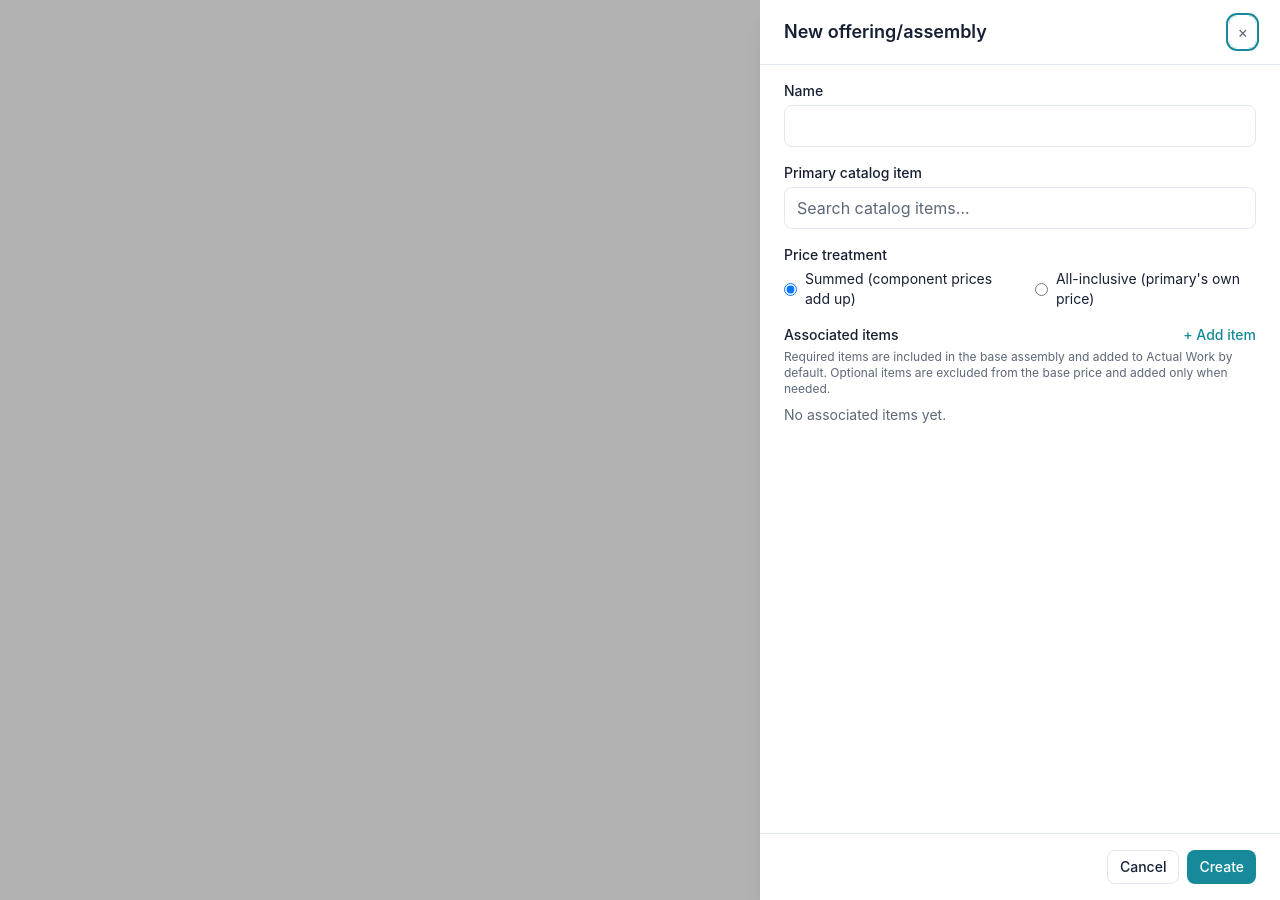
Test: OfferingAssemblyDrawer › excludes the primary item from an associated-item picker's results
Click the dropdown at (1020,208), box [784, 187, 1256, 229]
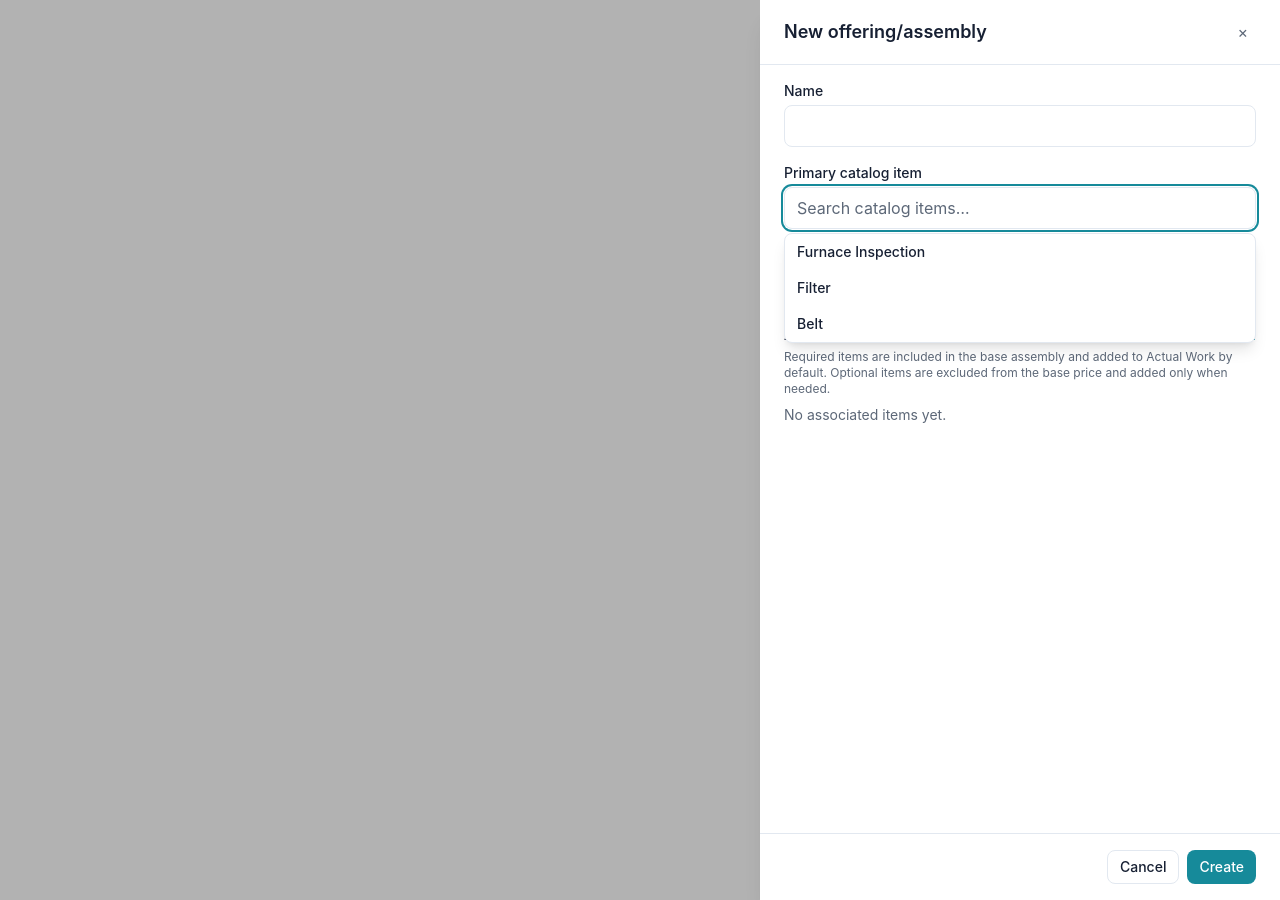
Click the option "Furnace Inspection" at (861,252), box [797, 243, 925, 260]
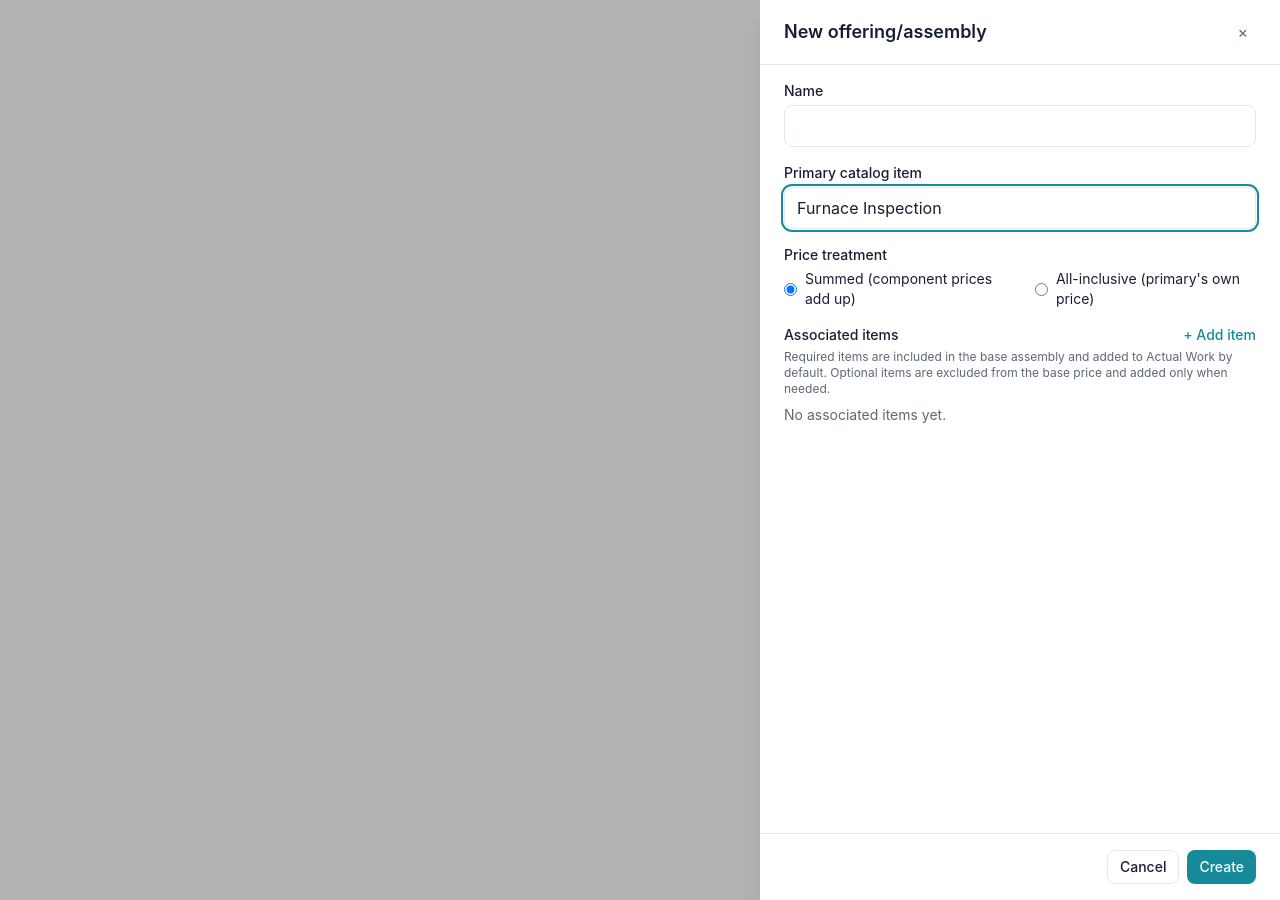
Click the button "+ Add item" at (1220,335), box [1183, 325, 1256, 345]
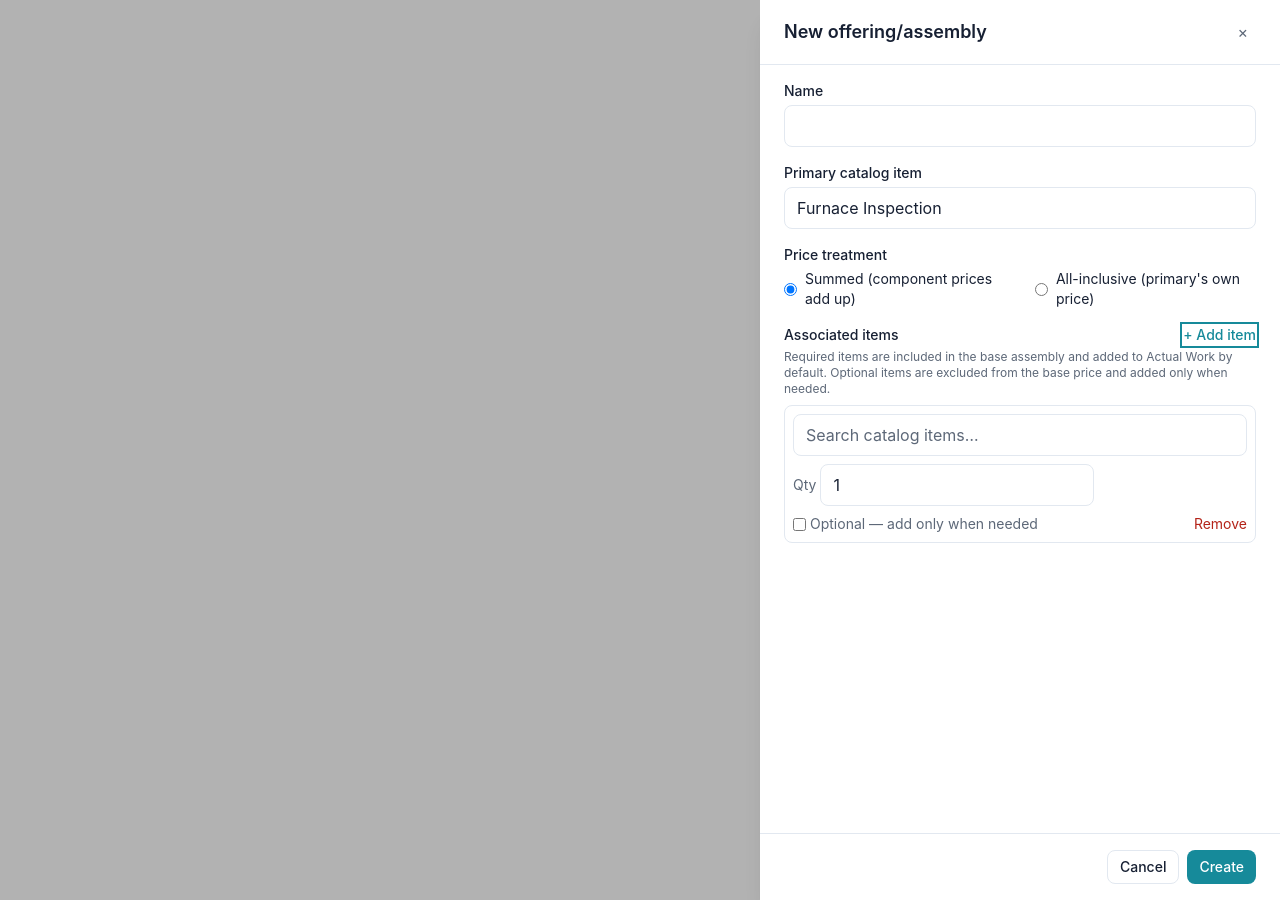
Click the dropdown with placeholder "Search catalog items…" at (1020,435), box [793, 414, 1247, 456]
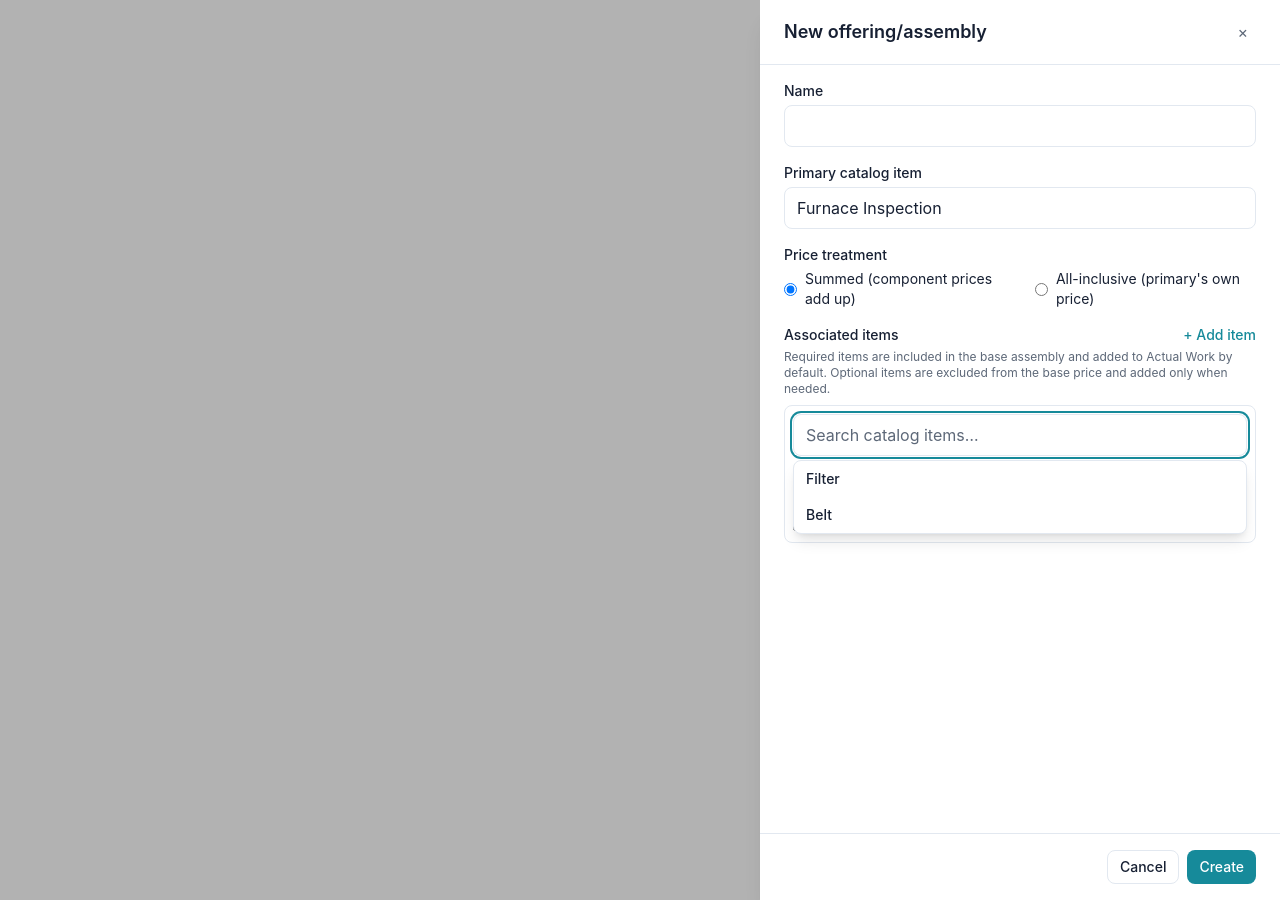
Expected: the text "Filter" is shown, [806, 470, 840, 487]
Expected: the text "Belt" is shown, [806, 506, 832, 523]
